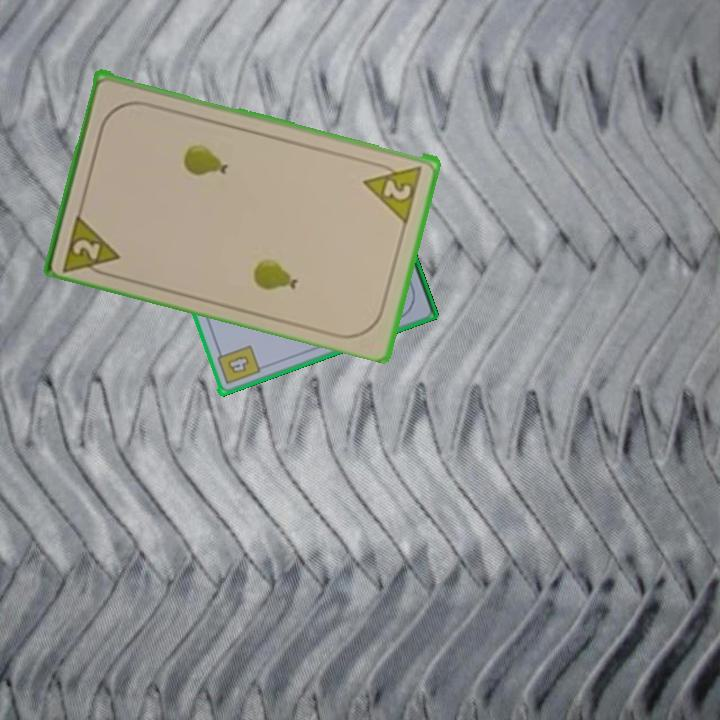2p: (360, 159, 426, 224), (69, 235, 104, 262)
4b: (213, 342, 263, 388)
